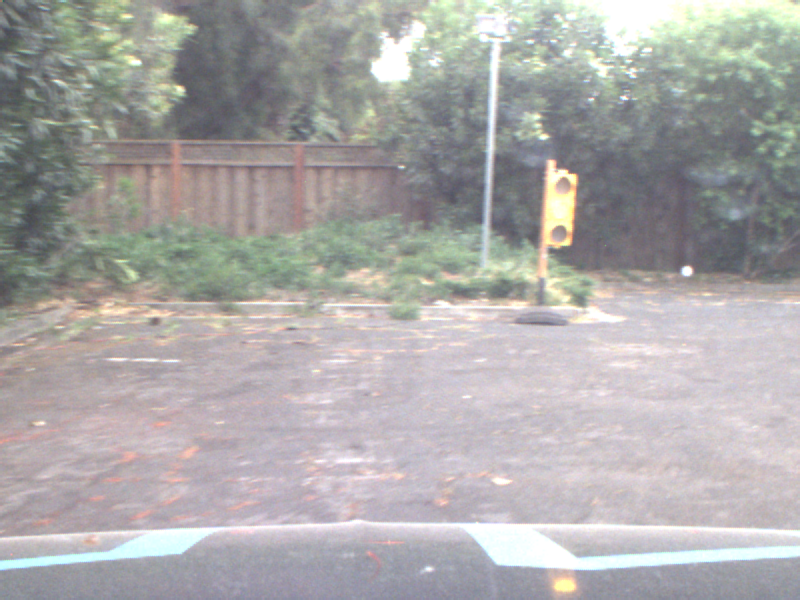Yellow: (541, 170, 572, 247)
